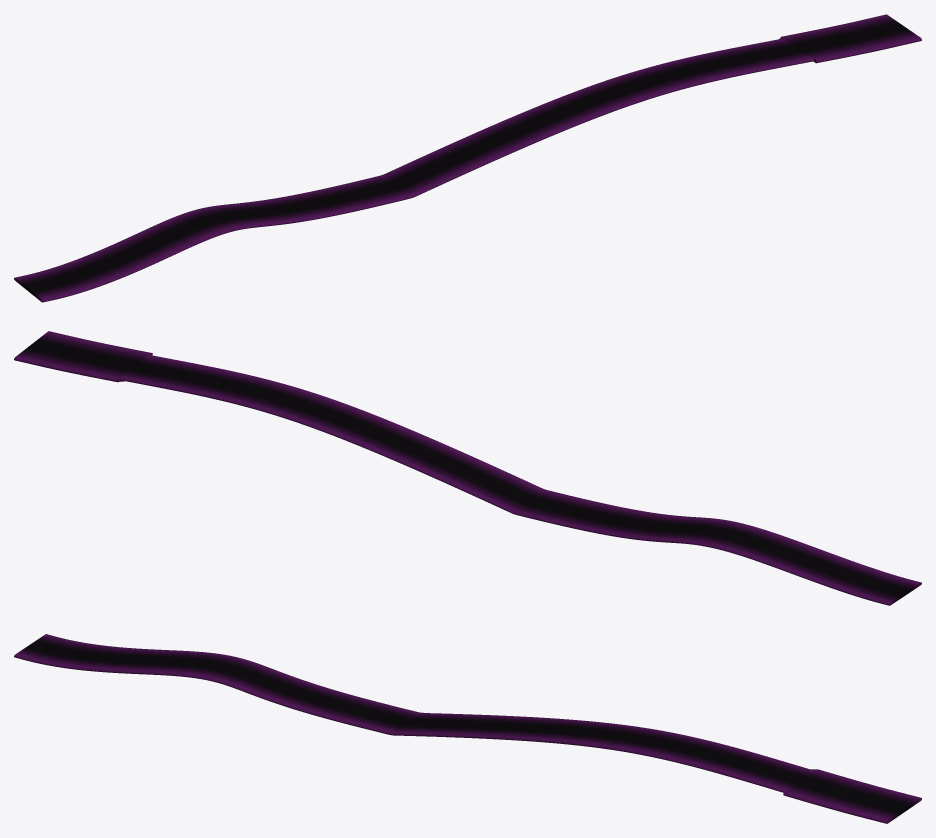
Rendered from level-02-track-13.glb.
3 renders of one model, top to bottom at view 1: azimuth 30°, elevation 25°; view 2: azimuth 150°, elevation 25°; view 3: azimuth 330°, elevation 25°, orthographic.
Visible parts, largest first — view 1: track-13; view 2: track-13; view 3: track-13.
Part boxes in pixels (x1=…): track-13: x1=14, y1=14, x2=921, y2=302; track-13: x1=14, y1=331, x2=921, y2=605; track-13: x1=14, y1=634, x2=921, y2=823.
Bounding box in the file's own units: 136 × 7.89 × 10.95.
2 materials, 2 textured.
